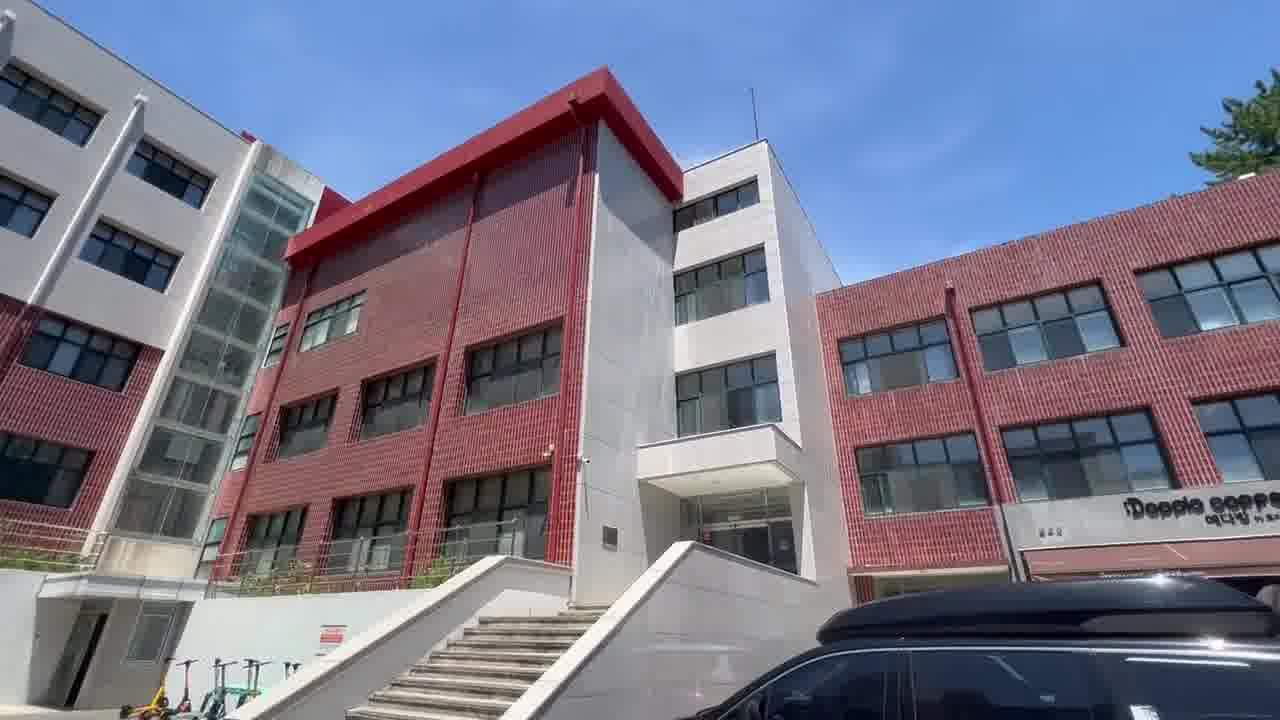building: (0, 0, 1280, 607)
